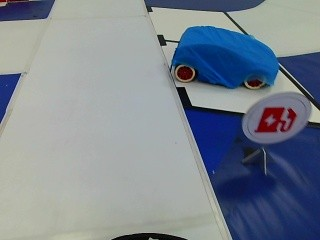battery: (249, 99, 301, 139)
car: (163, 25, 287, 91)
